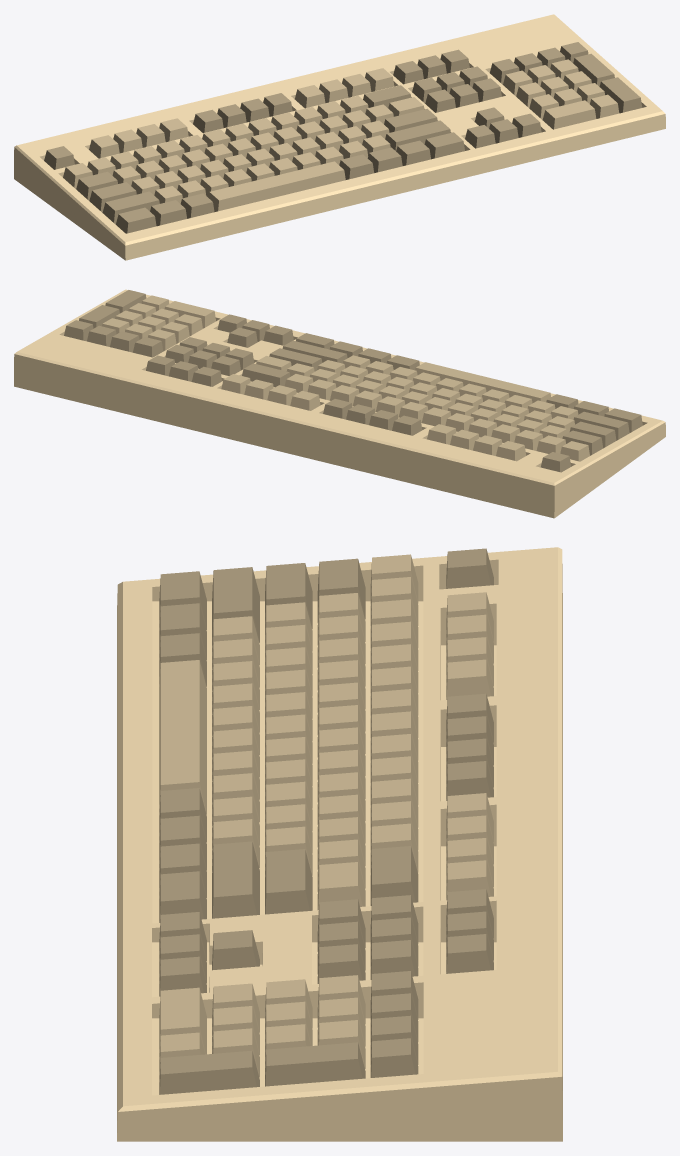
File: Keyboard.fbx
3 renders of one model, top to bottom at view 1: azimuth 30°, elevation 25°; view 2: azimuth 150°, elevation 25°; view 3: azimuth 270°, elevation 25°, orthographic. The views are drawn at different scales.
Visible parts, largest first — view 1: Cube, Cube.101, Cube.067; view 2: Cube, Cube.101, Cube.067; view 3: Cube, Cube.101, Cube.067.
Boxes of the visible parts, x1,y1,x2,y2 form: Cube: [14, 14, 665, 260]; Cube.101: [63, 59, 619, 211]; Cube.067: [44, 42, 642, 233]; Cube: [14, 289, 665, 518]; Cube.101: [102, 295, 589, 461]; Cube.067: [64, 290, 642, 472]; Cube: [117, 547, 562, 1141]; Cube.101: [159, 554, 493, 1081]; Cube.067: [159, 548, 493, 1094].
Bounding box in the file's own units: 285 × 19.93 × 102.
